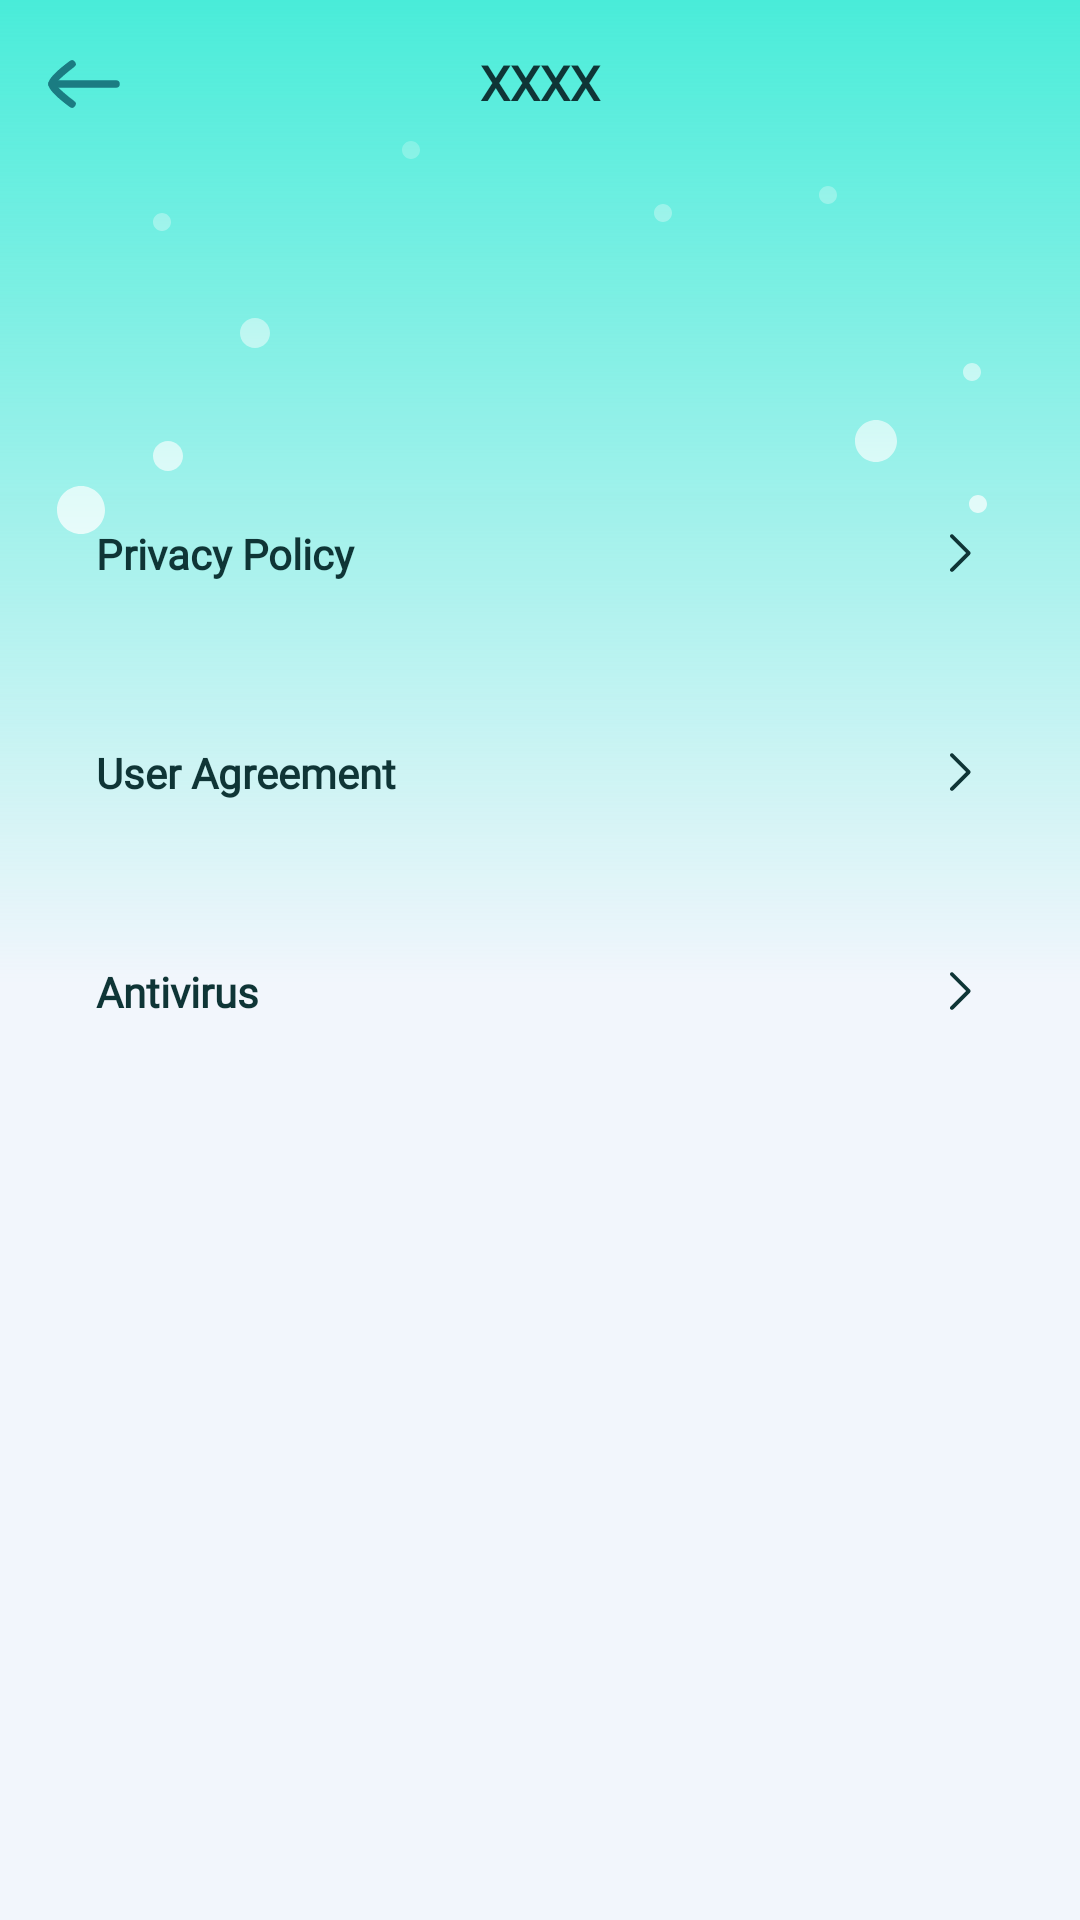

Icon bounding boxes for this 1080px x 1920px phone screenshot, format (x1, y1, x2, y2):
back: (36, 36, 132, 108)
